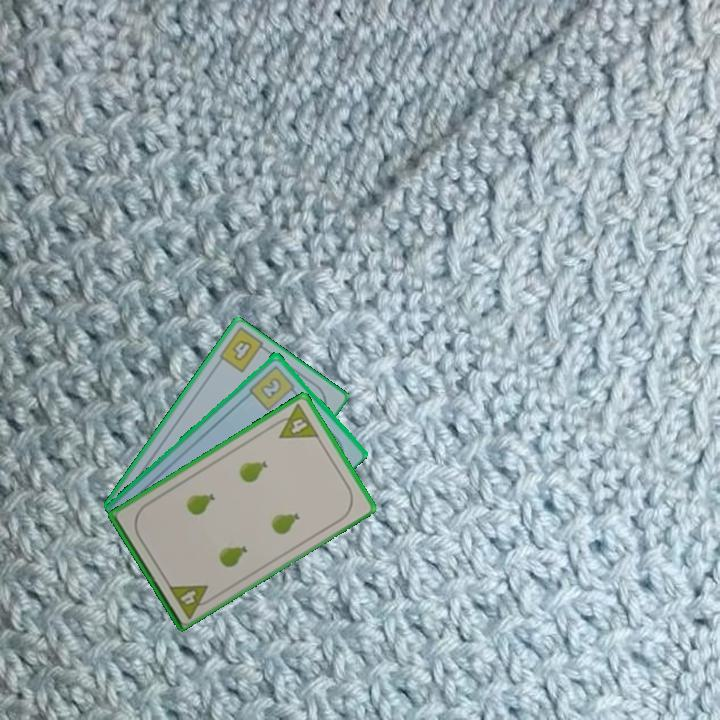2b: (246, 361, 300, 413)
4b: (228, 336, 255, 364)
4p: (269, 400, 322, 442), (164, 581, 217, 621)
